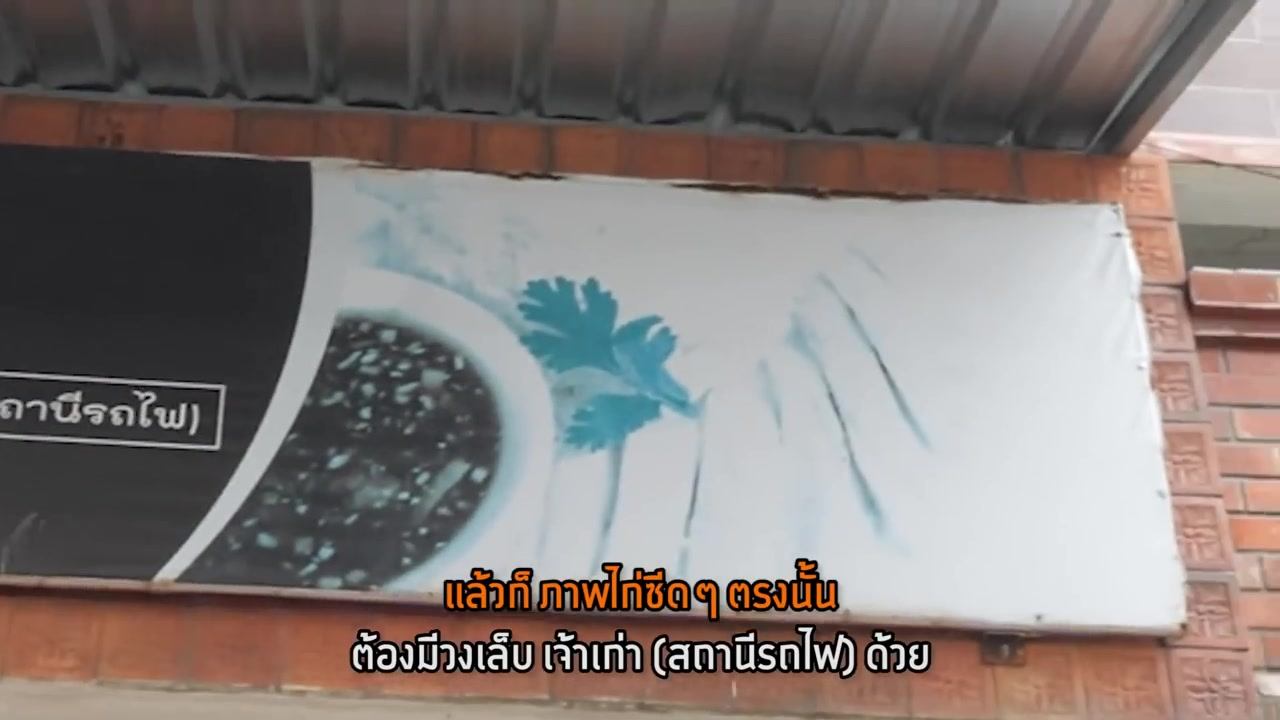text-label: (348, 623, 936, 681), (442, 554, 844, 623)
